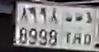8: (48, 6, 60, 50), (18, 6, 28, 47)
9: (39, 6, 49, 45), (28, 6, 37, 47)
D: (84, 12, 93, 47)
